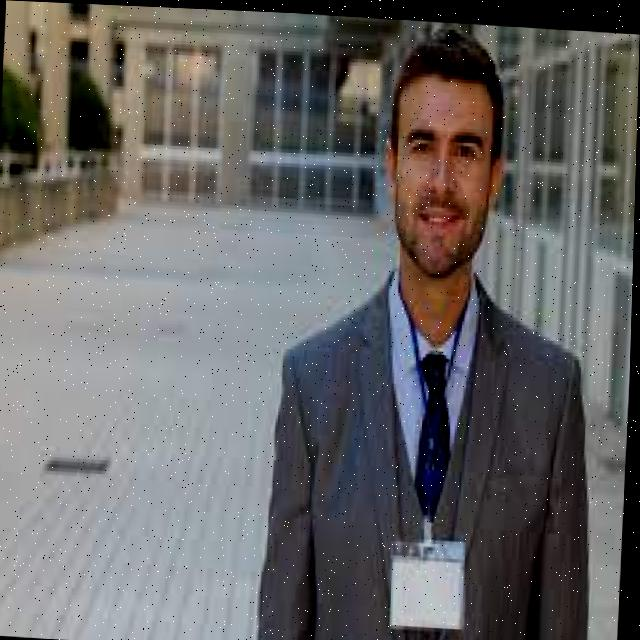id_card: (386, 297, 488, 640)
